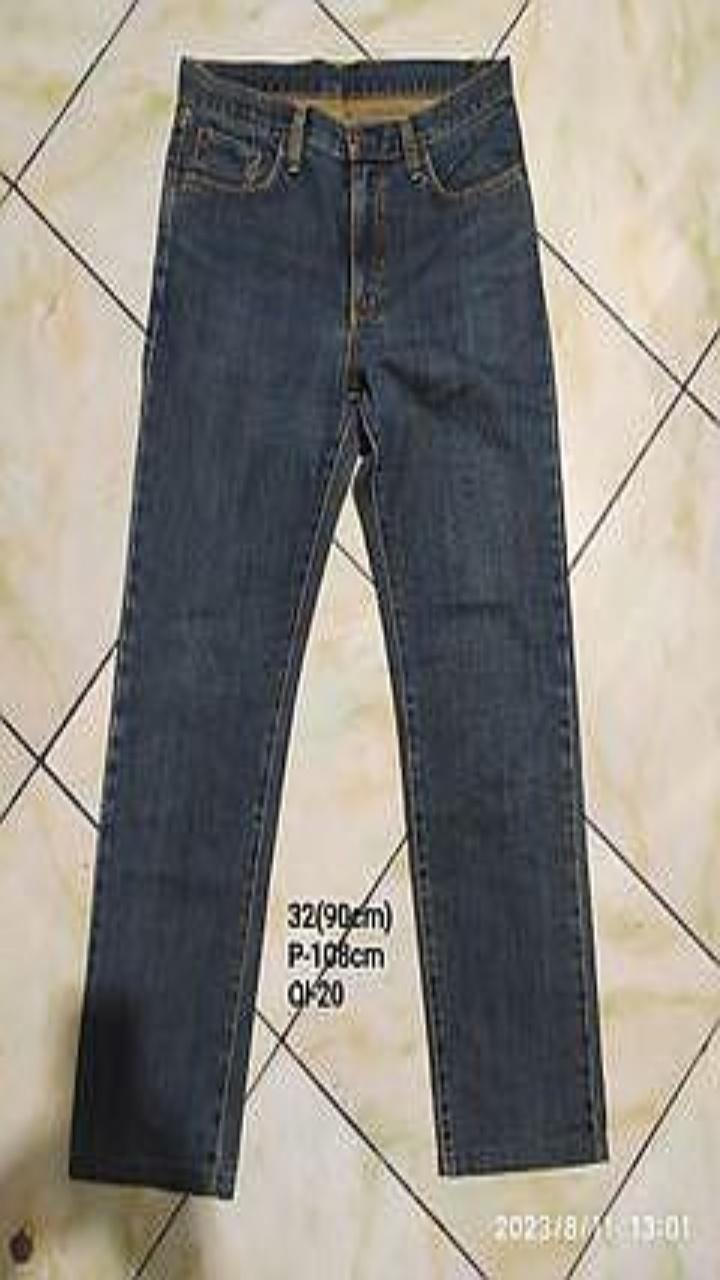Jeans: (69, 57, 607, 1198)
